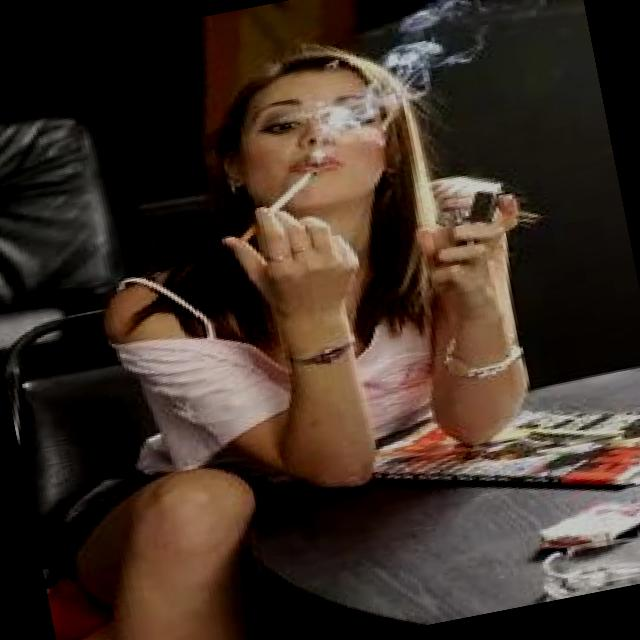smoke: (222, 166, 328, 249)
